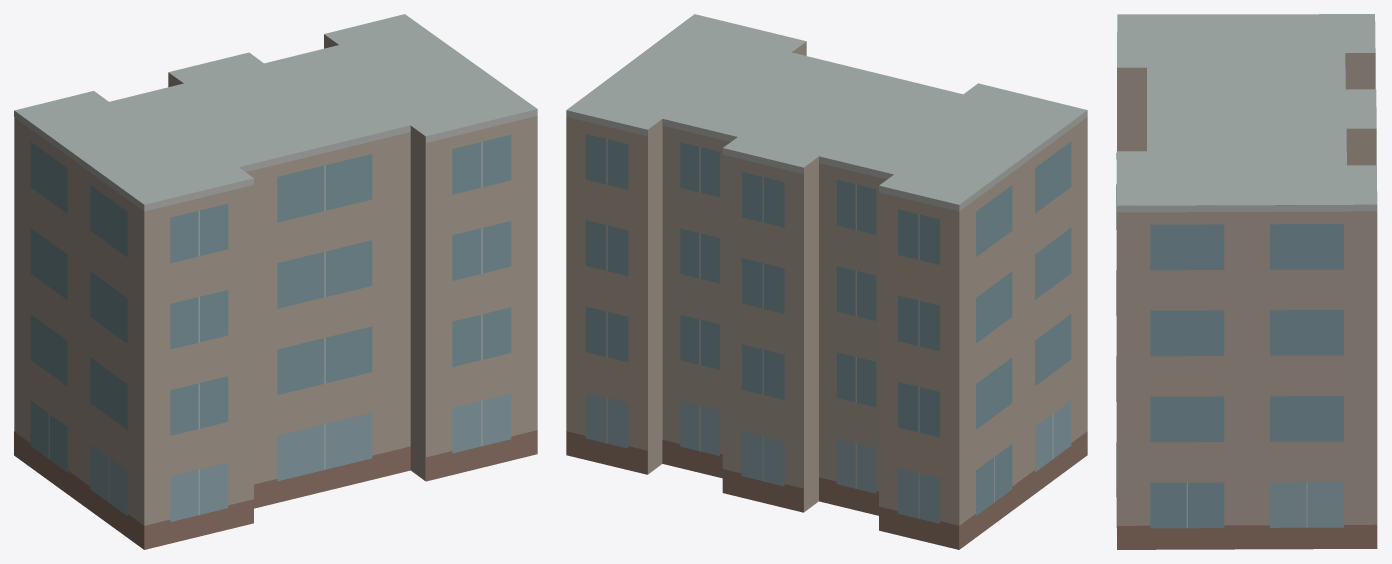
File: survey-upis-33015930.glb
3 renders of one model, left to right at view 1: azimuth 30°, elevation 25°; view 2: azimuth 150°, elevation 25°; view 3: azimuth 270°, elevation 25°, orthographic.
Visible parts, largest first — view 1: survey-upis-33015930.tmp; view 2: survey-upis-33015930.tmp; view 3: survey-upis-33015930.tmp.
Boxes of the visible parts, x1,y1,x2,y2 form: survey-upis-33015930.tmp: (14, 14, 537, 549); survey-upis-33015930.tmp: (566, 14, 1087, 549); survey-upis-33015930.tmp: (1116, 14, 1377, 549).
Size of the model in its own units: 15.07 by 12.6 by 8.66.
